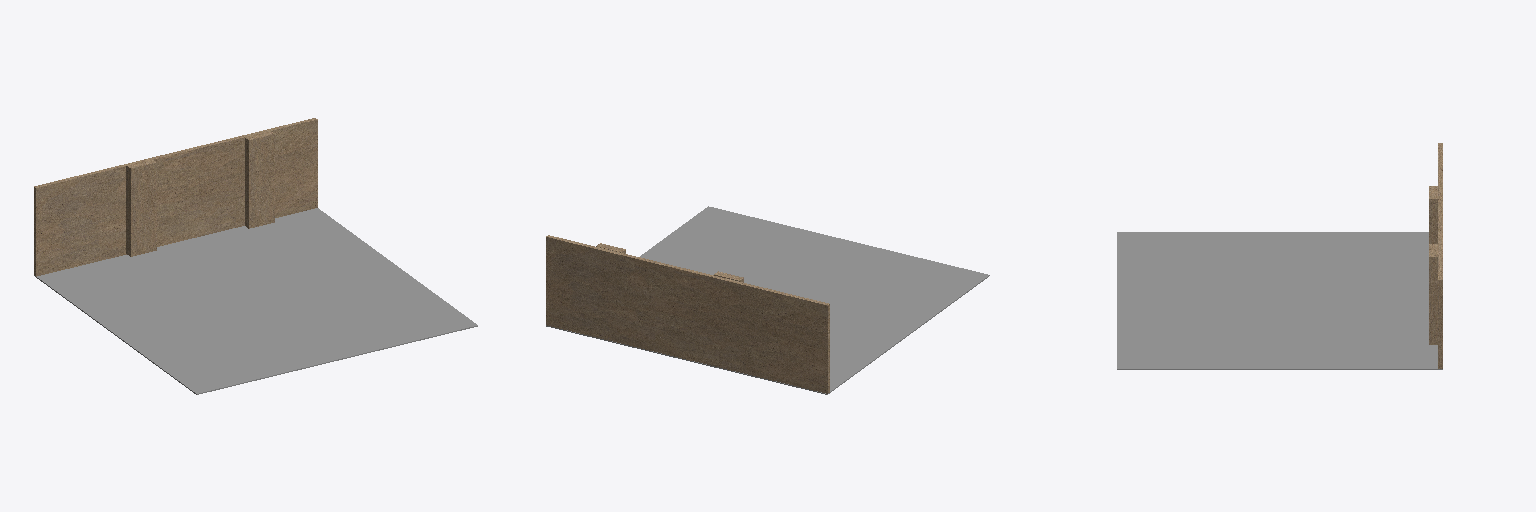
3 views of the same model, side by side, from view 1: azimuth 30°, elevation 25°; view 2: azimuth 150°, elevation 25°; view 3: azimuth 270°, elevation 25° (orthographic).
Visible parts, largest first — view 1: Cube, Cube.001, Cube.002, Cube.003; view 2: Cube.001, Cube; view 3: Cube, Cube.001, Cube.003.
Boxes of the visible parts, box(x1,y1,x2,y2) form: Cube: box(34, 208, 477, 394); Cube.001: box(34, 118, 317, 276); Cube.002: box(126, 159, 156, 256); Cube.003: box(245, 131, 274, 228); Cube.001: box(546, 235, 829, 393); Cube: box(546, 206, 989, 394); Cube: box(1117, 232, 1442, 369); Cube.001: box(1438, 143, 1442, 368); Cube.003: box(1429, 244, 1437, 344).
Bounding box in the file's own units: 61.03 × 18.71 × 60.99.
Materials: 2 (1 with a texture image).